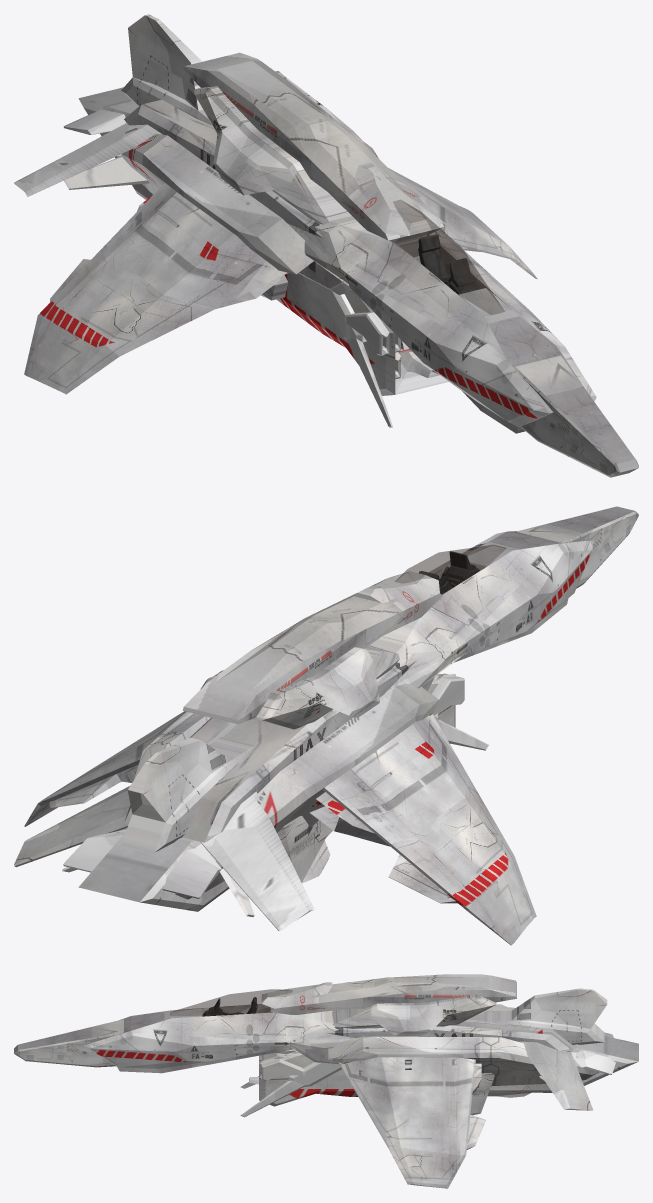
Rendered from fighter_f.FBX.
The picture shows the model from 3 angles, top to bottom: view 1: azimuth 30°, elevation 25°; view 2: azimuth 150°, elevation 25°; view 3: azimuth 270°, elevation 25°; orthographic projection. The views are drawn at different scales.
Visible parts, largest first — view 1: body, cockpit_glass, seat; view 2: body, cockpit_glass, seat; view 3: body, cockpit_glass, seat.
Boxes of the visible parts, <box> form: body: <box>14,14,638,477</box>; cockpit_glass: <box>393,200,504,314</box>; seat: <box>418,234,480,294</box>; body: <box>14,506,638,945</box>; cockpit_glass: <box>395,545,506,594</box>; seat: <box>419,551,479,594</box>; body: <box>14,974,638,1188</box>; cockpit_glass: <box>170,989,292,1016</box>; seat: <box>202,997,257,1016</box>.
Bounding box in the file's own units: 702 × 315 × 1297.
